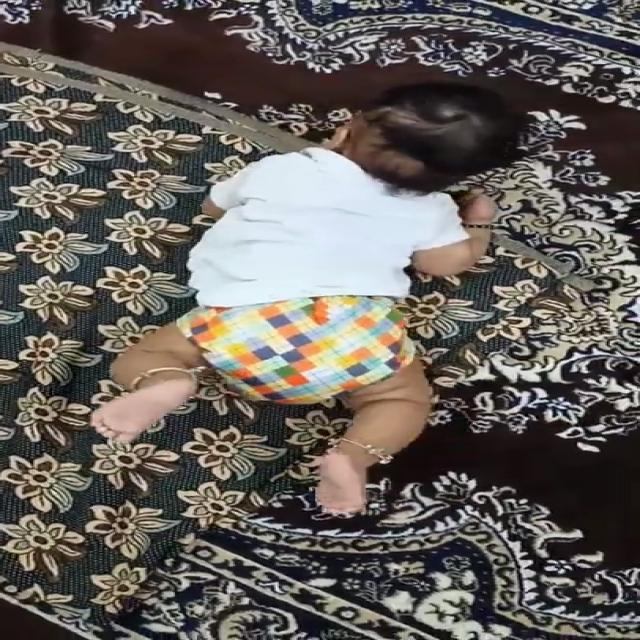baby: (86, 72, 534, 516)
